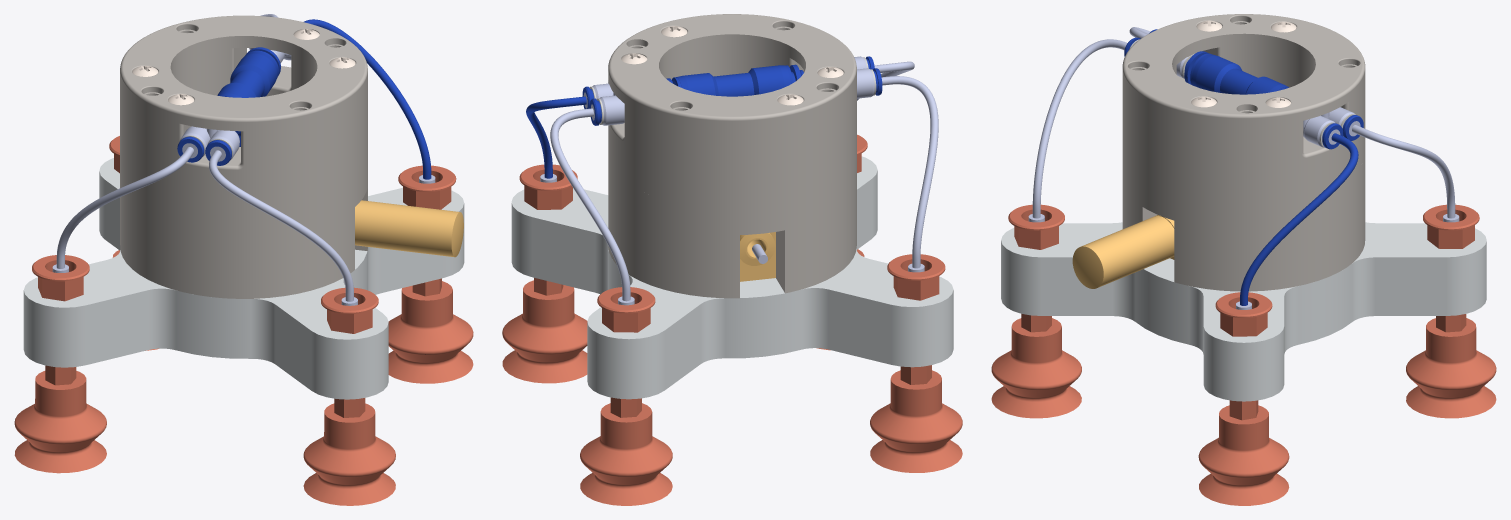
Rendered from gripper_assembly.glb.
The picture shows the model from 3 angles, left to right: view 1: azimuth 30°, elevation 25°; view 2: azimuth 150°, elevation 25°; view 3: azimuth 270°, elevation 25°; orthographic projection. The views are drawn at different scales.
Parts seen in each view (by area): view 1: Acople de Robot - Copy-1, Base-1, Acople de Robot-2, ventosa 25 mm-2, ventosa 25 mm-1, ventosa 25 mm-3, Vacuum Generator Vn 10 H-3, T conexión-1, Cable^Cable_11-Emsamblaje-1, spin tite insert-7, spin tite insert-3, spin tite insert-8 (+3 smaller); view 2: Acople de Robot - Copy-1, Base-1, Acople de Robot-2, ventosa 25 mm-4, ventosa 25 mm-1, ventosa 25 mm-3, T conexión-1, Cable^Harness_9-Emsamblaje-1, Cable^Harness_10-Emsamblaje-1, spin tite insert-6, spin tite insert-7, spin tite insert-8 (+4 smaller); view 3: Acople de Robot - Copy-1, Base-1, Acople de Robot-2, ventosa 25 mm-3, ventosa 25 mm-4, ventosa 25 mm-2, Vacuum Generator Vn 10 H-3, T conexión-1, Cable^Harness_8-Emsamblaje-1, Cable^Cable_11-Emsamblaje-1, spin tite insert-8, spin tite insert-6 (+3 smaller).
Boxes of the visible parts, x1,y1,x2,y2 form: Acople de Robot - Copy-1: (120,15,367,208); Base-1: (23,158,464,399); Acople de Robot-2: (120,155,367,298); ventosa 25 mm-2: (303,398,395,505); ventosa 25 mm-1: (14,365,106,473); ventosa 25 mm-3: (388,278,473,383); Vacuum Generator Vn 10 H-3: (355,200,463,257); T conexión-1: (217,47,280,146); Cable^Cable_11-Emsamblaje-1: (209,150,353,301); spin tite insert-7: (32,255,89,301); spin tite insert-3: (321,287,378,333); spin tite insert-8: (398,165,456,209); Acople de Robot - Copy-1: (608,14,856,208); Base-1: (511,156,953,399); Acople de Robot-2: (608,156,856,298); ventosa 25 mm-4: (580,397,672,505); ventosa 25 mm-1: (870,365,962,472); ventosa 25 mm-3: (502,278,587,383); T conexión-1: (666,64,800,96); Cable^Harness_9-Emsamblaje-1: (550,108,630,301); Cable^Harness_10-Emsamblaje-1: (881,76,938,268); spin tite insert-6: (597,287,655,332); spin tite insert-7: (887,254,945,300); spin tite insert-8: (519,164,577,209); Acople de Robot - Copy-1: (1122,14,1365,203); Base-1: (1001,222,1486,401); Acople de Robot-2: (1122,153,1365,291); ventosa 25 mm-3: (1198,400,1289,505); ventosa 25 mm-4: (1406,314,1496,418); ventosa 25 mm-2: (991,314,1081,418); Vacuum Generator Vn 10 H-3: (1072,215,1174,288); T conexión-1: (1184,51,1288,94); Cable^Harness_8-Emsamblaje-1: (1240,133,1358,305); Cable^Cable_11-Emsamblaje-1: (1032,39,1127,218); spin tite insert-8: (1215,292,1272,336); spin tite insert-6: (1423,204,1479,248).
Bounding box in the file's own units: 0.156 × 0.1152 × 0.156.
